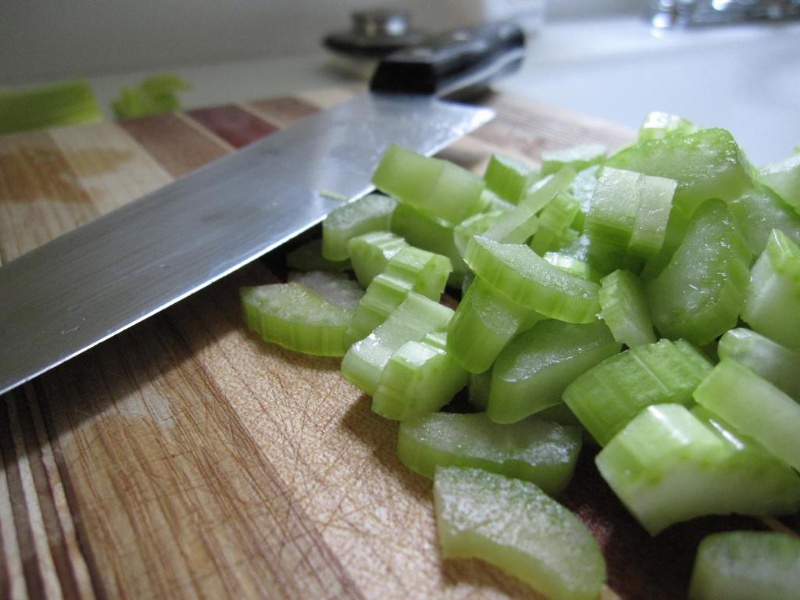knife: (13, 31, 779, 600)
